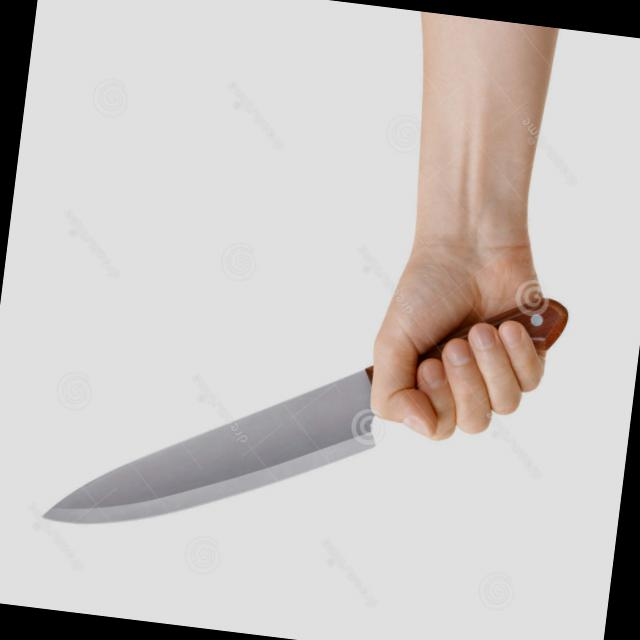knife: (32, 266, 489, 579)
